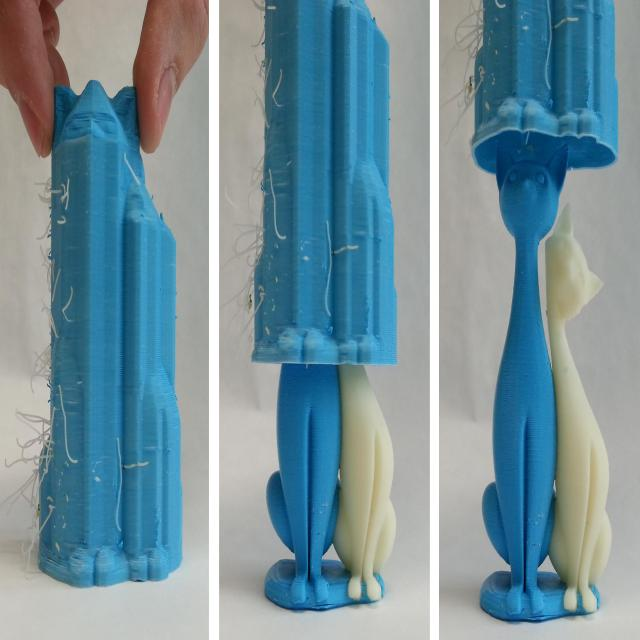stringing: (222, 175, 283, 340), (29, 190, 79, 386), (10, 396, 65, 549), (444, 10, 489, 119)
